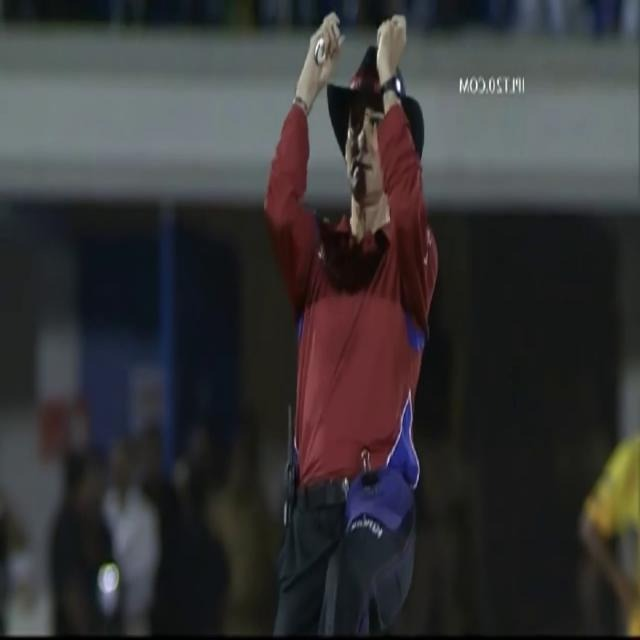Six: (247, 6, 445, 640)
